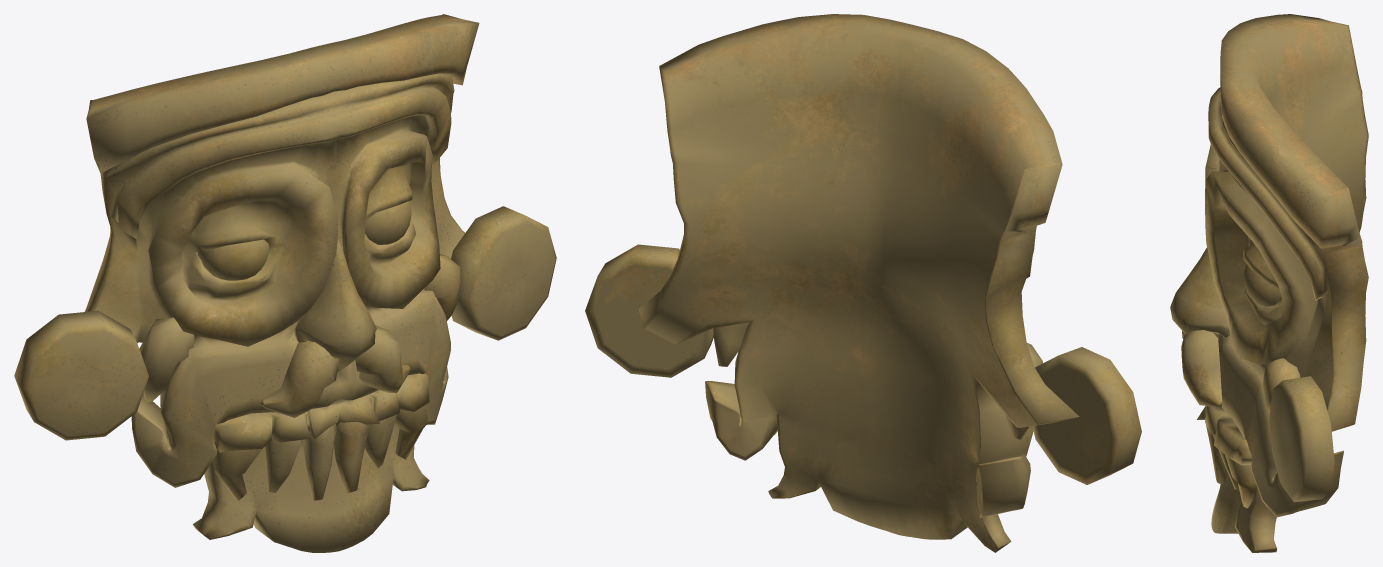
Rendered from mascara.gltf.
The picture shows the model from 3 angles, left to right: view 1: azimuth 30°, elevation 25°; view 2: azimuth 150°, elevation 25°; view 3: azimuth 270°, elevation 25°; orthographic projection. The views are drawn at different scales.
Parts seen in each view (by area): view 1: Mascara; view 2: Mascara; view 3: Mascara.
Boxes of the visible parts, x1,y1,x2,y2 form: Mascara: [14, 14, 556, 552]; Mascara: [585, 14, 1141, 552]; Mascara: [1170, 14, 1368, 552].
Bounding box in the file's own units: 53.77 × 46.96 × 18.3.
Materials: 1 (1 with a texture image).
